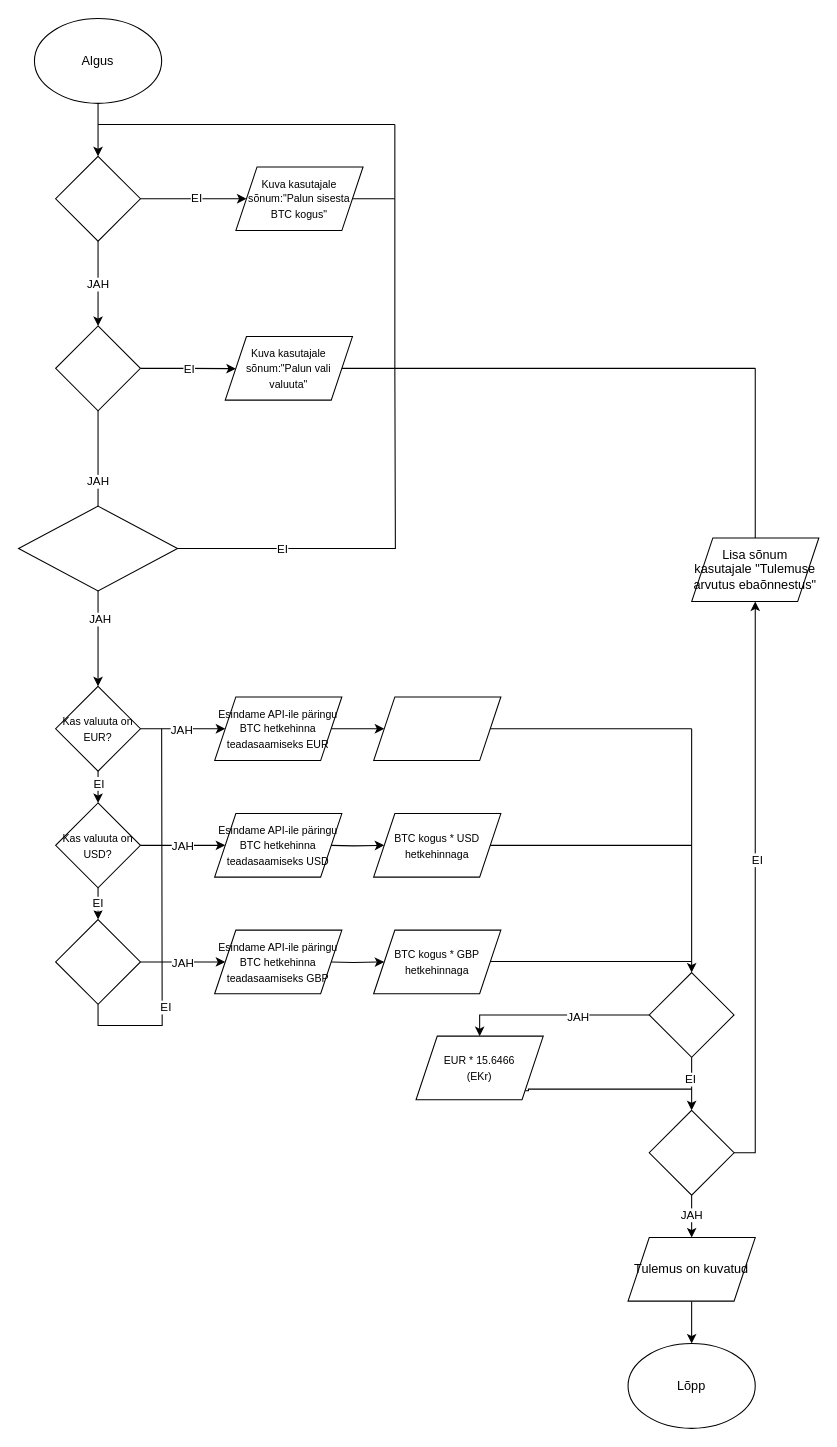
Image size: 837x1447. Some labels were removed from this diagram. Each missing label, with the centre of its shape:
"BTC kogus * EUR hetkehinnaga" belongs at (437,728).
"Kas arvutus teostati edukalt?" belongs at (691,1152).
"Kas kasutaja on sisestanud oma bitcoini koguse?" belongs at (97,198).
"Kas kasutaja on vajutanud nuppu valuuta arvutamiseks?" belongs at (97,548).
"Kas kasutaja on valinud sihtvaluuta?" belongs at (97,368).
"Kas valuuta on EKr?" belongs at (691,1014).
"Kas valuuta on GBP" belongs at (97,961).
